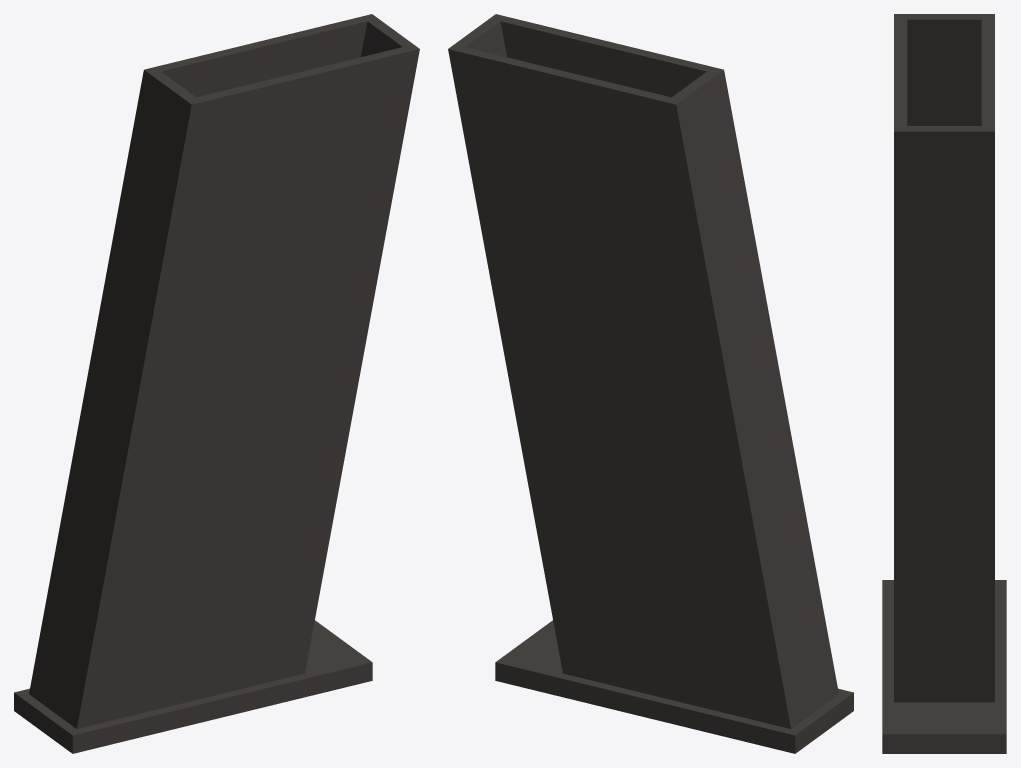
File: Pistol3_03_3.fbx
3 views of the same model, side by side, from view 1: azimuth 30°, elevation 25°; view 2: azimuth 150°, elevation 25°; view 3: azimuth 270°, elevation 25° (orthographic). The views are drawn at different scales.
Parts seen in each view (by area): view 1: Pistol3_03_3; view 2: Pistol3_03_3; view 3: Pistol3_03_3.
Part boxes in pixels (x1,y1,x2,y2): Pistol3_03_3: [14, 14, 419, 753]; Pistol3_03_3: [448, 14, 853, 753]; Pistol3_03_3: [882, 14, 1006, 753].
Bounding box in the file's own units: 0.0918 × 0.1529 × 0.0265.
